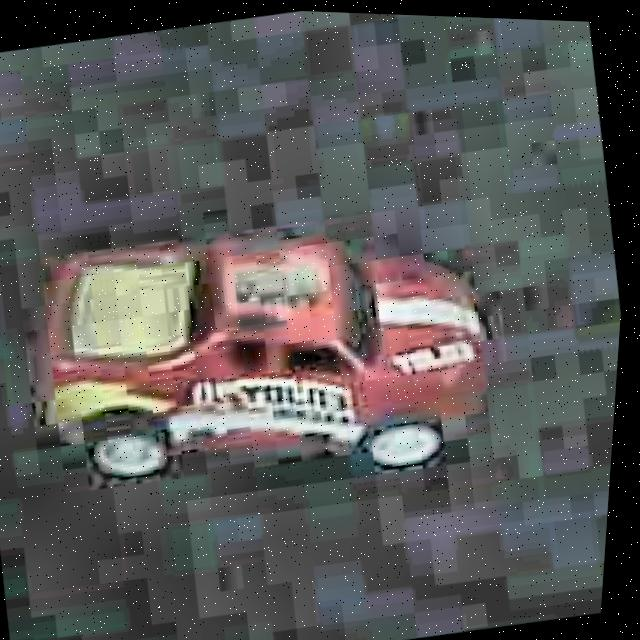car: (2, 165, 535, 551)
